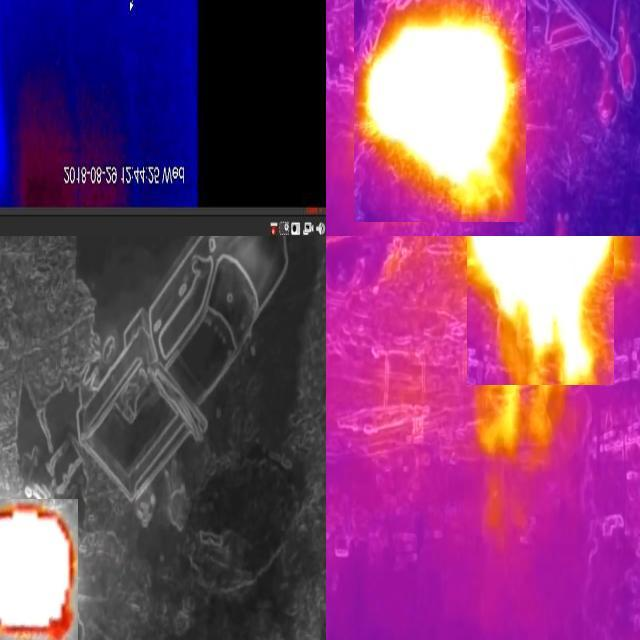fire: (355, 1, 527, 223), (468, 237, 615, 385), (1, 500, 79, 640)
